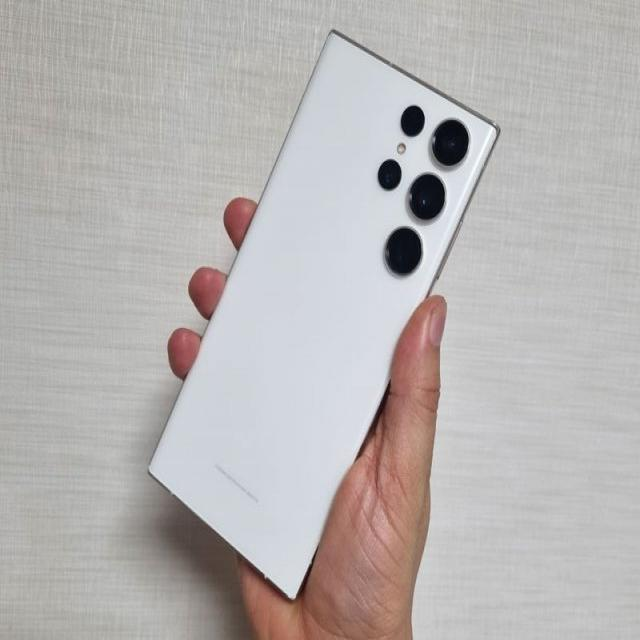mobile: (147, 31, 499, 600)
